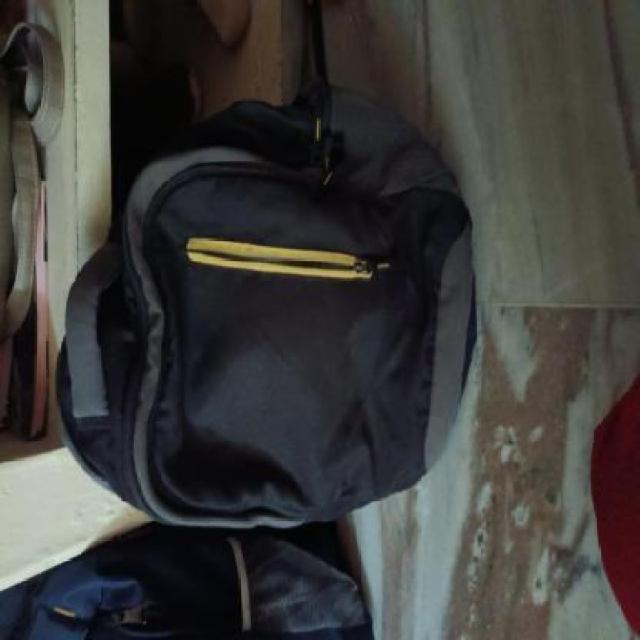backpack: (49, 76, 482, 536)
